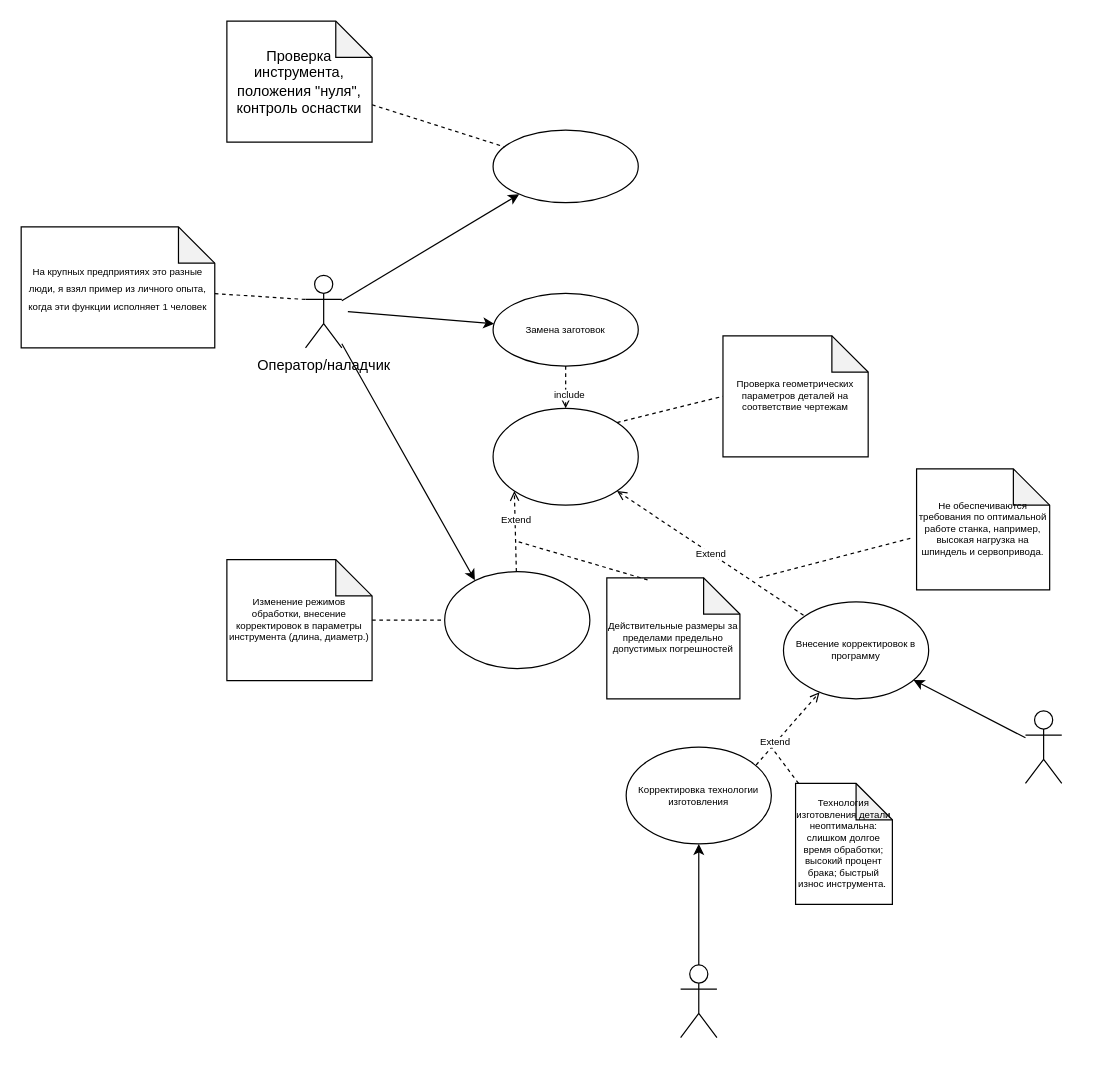
Some shapes in this 1095 by 1090 pixel diagram are drawn without their labels. The centre of each missing label's shape, as x and y in pixels:
Внесение корректировок в работу станка: (516,620)
Инженер-технолог: (698,1001)
Определить необходимость в наладке станка: (565,166)
Программист: (1043,746)
Промежуточный контроль: (565,456)
